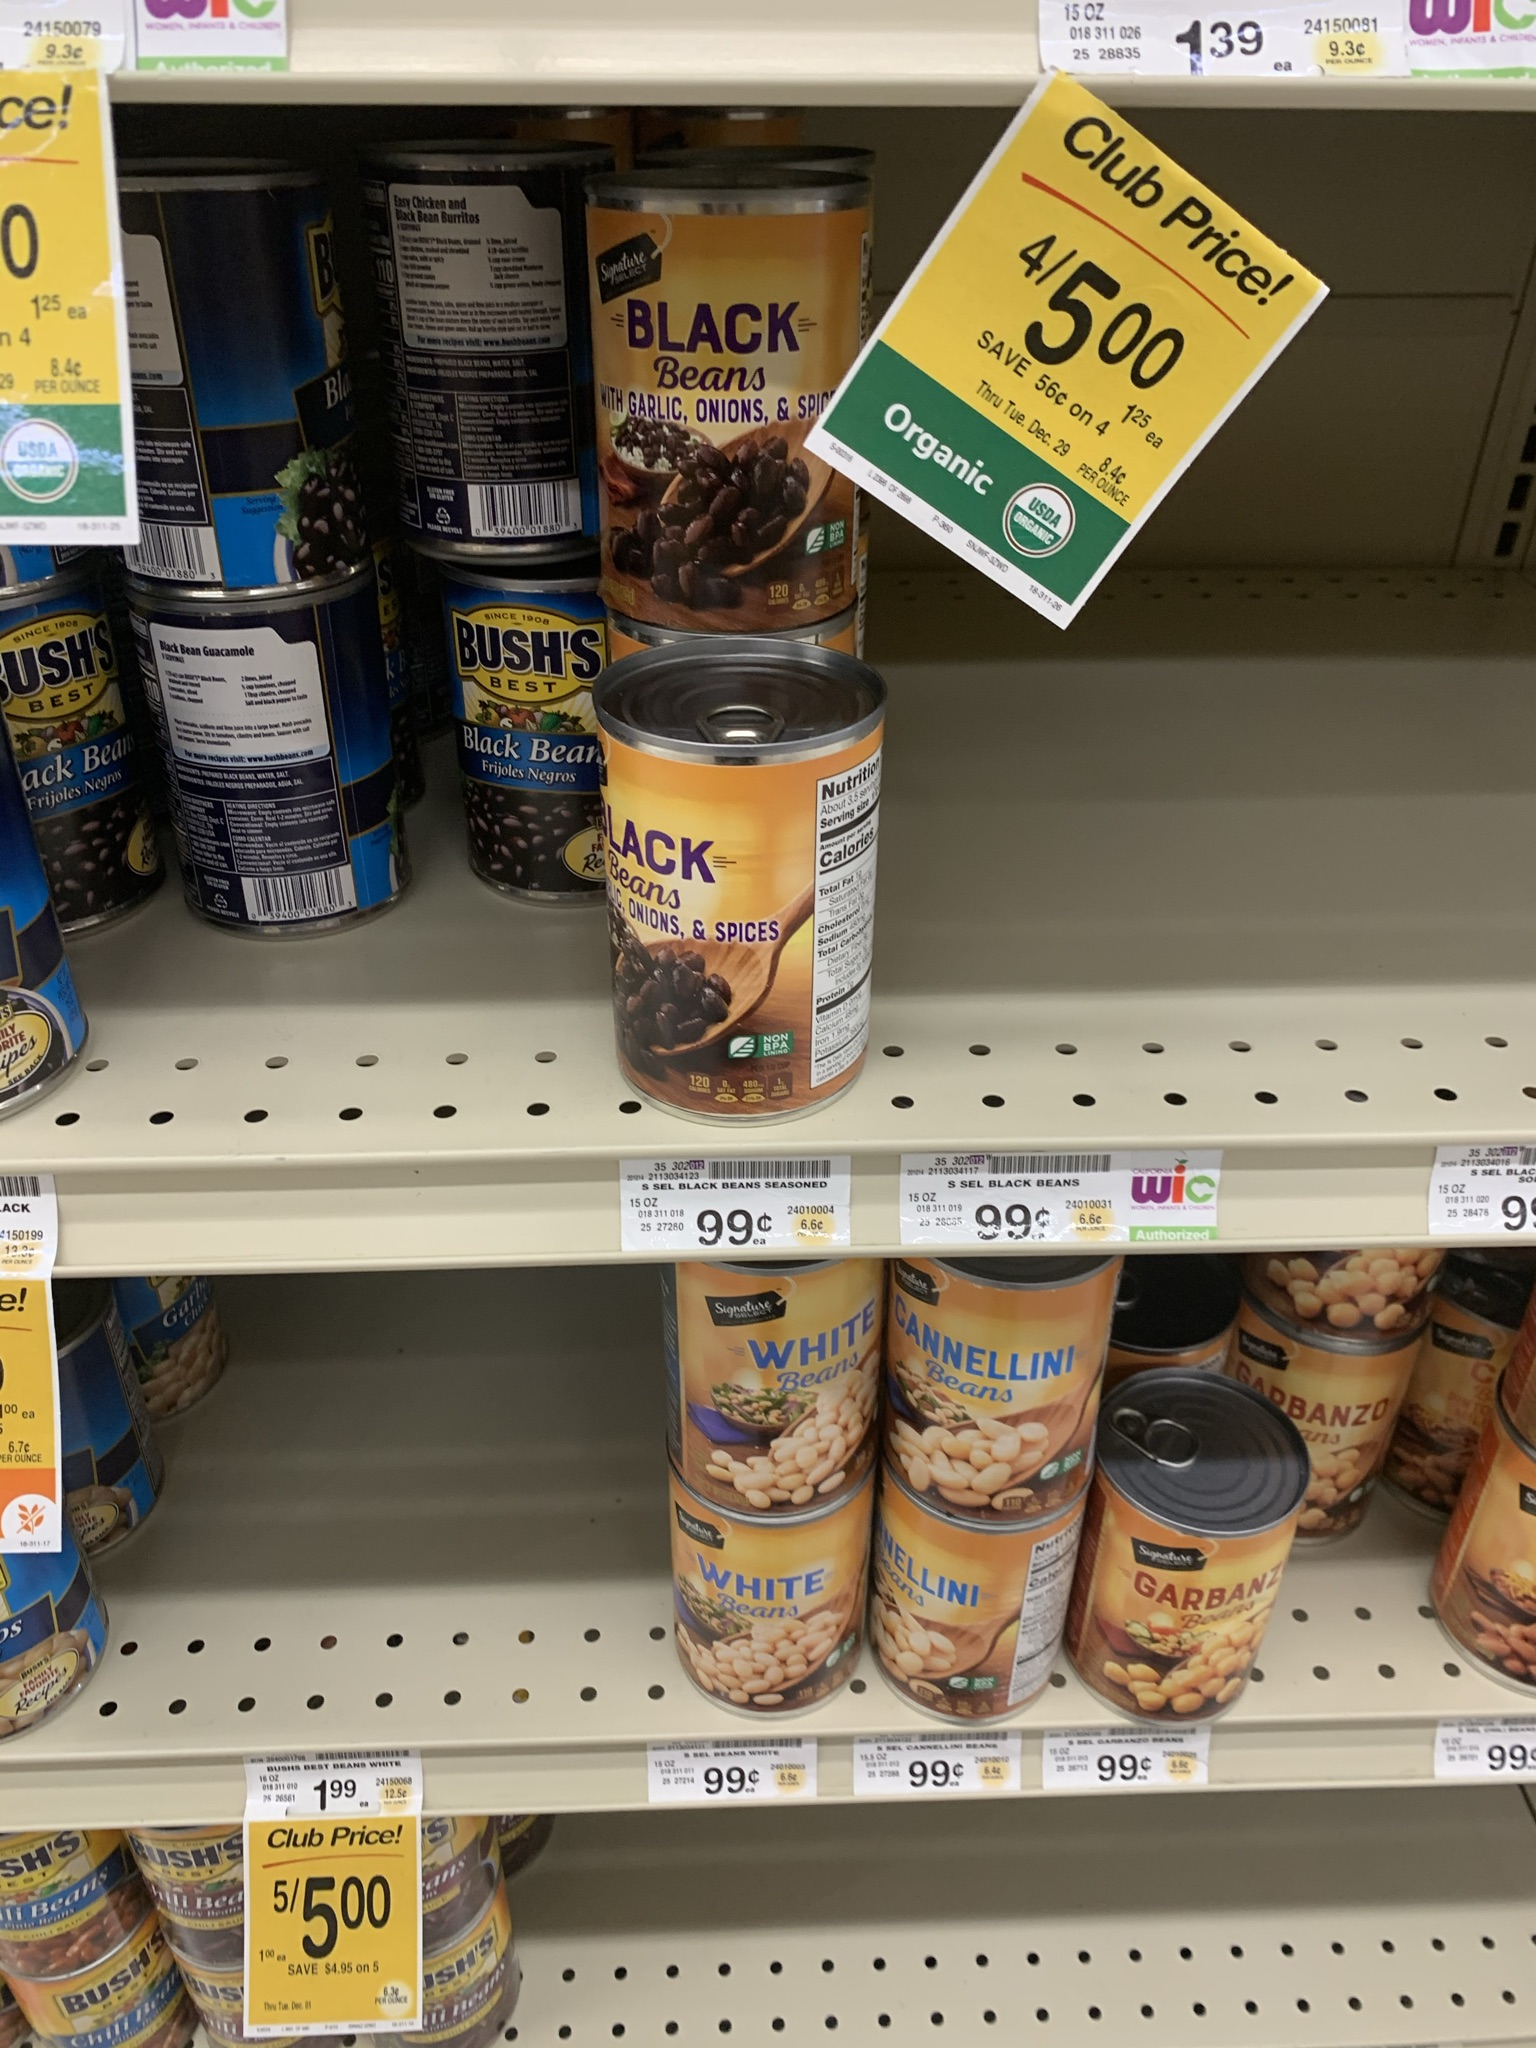can: (620, 693, 866, 1085), (597, 206, 820, 622), (127, 185, 315, 589), (378, 173, 571, 553), (174, 610, 384, 910), (897, 1280, 1094, 1492), (679, 1272, 874, 1480), (1100, 1472, 1271, 1687), (466, 618, 592, 898), (884, 1513, 1071, 1688), (673, 1522, 854, 1685)
